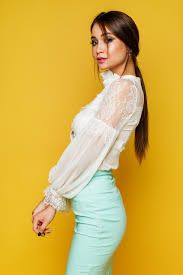no-mask: (82, 11, 140, 76)
